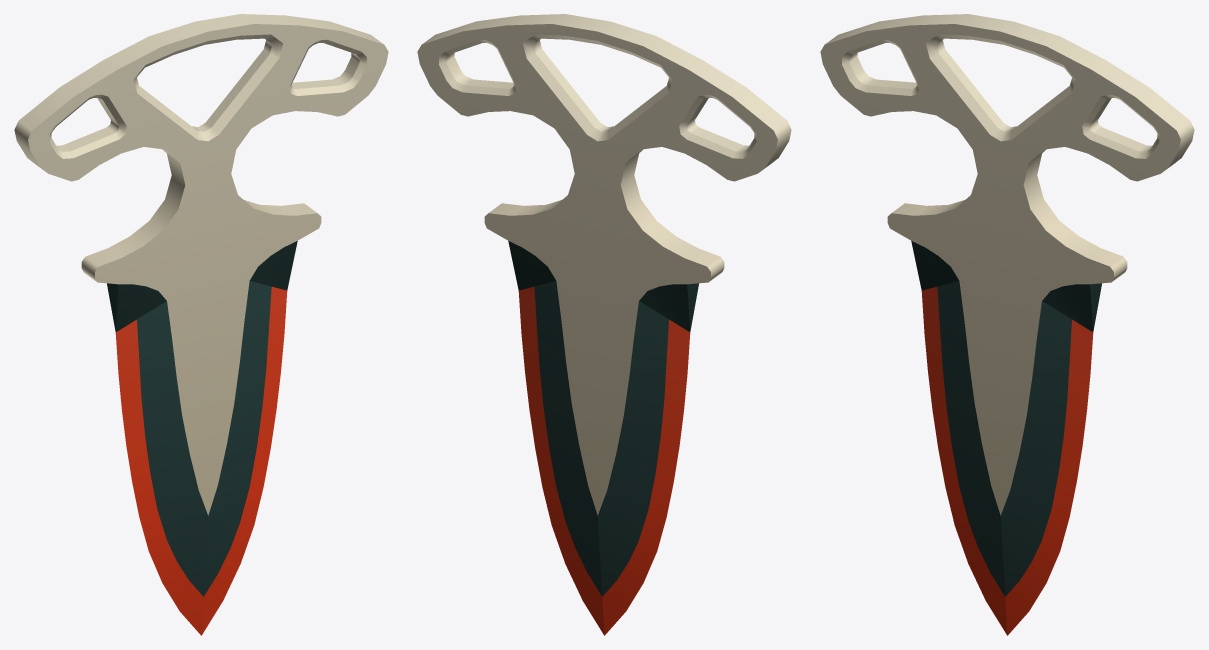
File: Knife_03.fbx
3 renders of one model, left to right at view 1: azimuth 30°, elevation 25°; view 2: azimuth 150°, elevation 25°; view 3: azimuth 330°, elevation 25°, orthographic.
Parts seen in each view (by area): view 1: Knife_03; view 2: Knife_03; view 3: Knife_03.
Boxes of the visible parts, box(x1,y1,x2,y2) form: Knife_03: box(14, 14, 388, 635); Knife_03: box(417, 14, 791, 635); Knife_03: box(820, 14, 1194, 635).
Bounding box in the file's own units: 12.65 × 20.42 × 0.8252.
